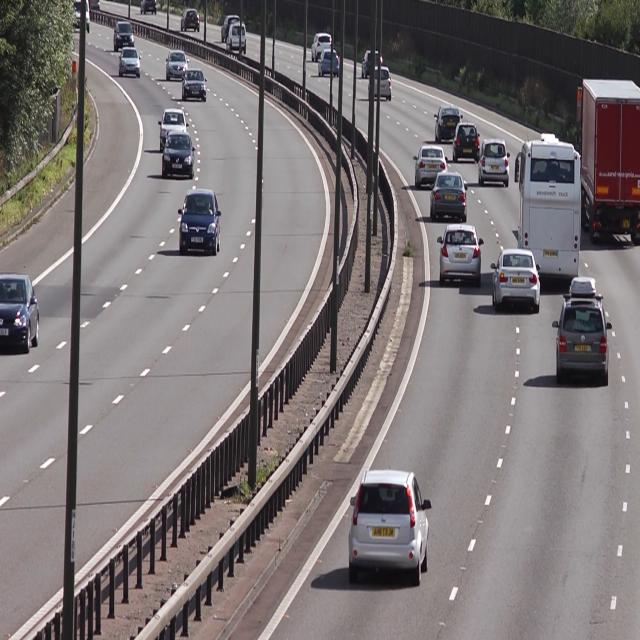Car: (577, 74, 640, 249), (347, 468, 435, 581), (516, 140, 582, 286), (552, 279, 608, 385), (0, 270, 41, 356), (490, 246, 539, 311), (178, 188, 222, 254), (436, 225, 483, 283), (429, 171, 468, 221), (478, 135, 509, 192), (411, 142, 447, 191), (162, 133, 195, 182), (452, 116, 480, 166), (156, 104, 187, 149), (432, 105, 464, 144), (369, 62, 391, 103), (164, 46, 188, 81), (117, 46, 142, 78), (181, 70, 205, 101), (113, 18, 133, 51)
